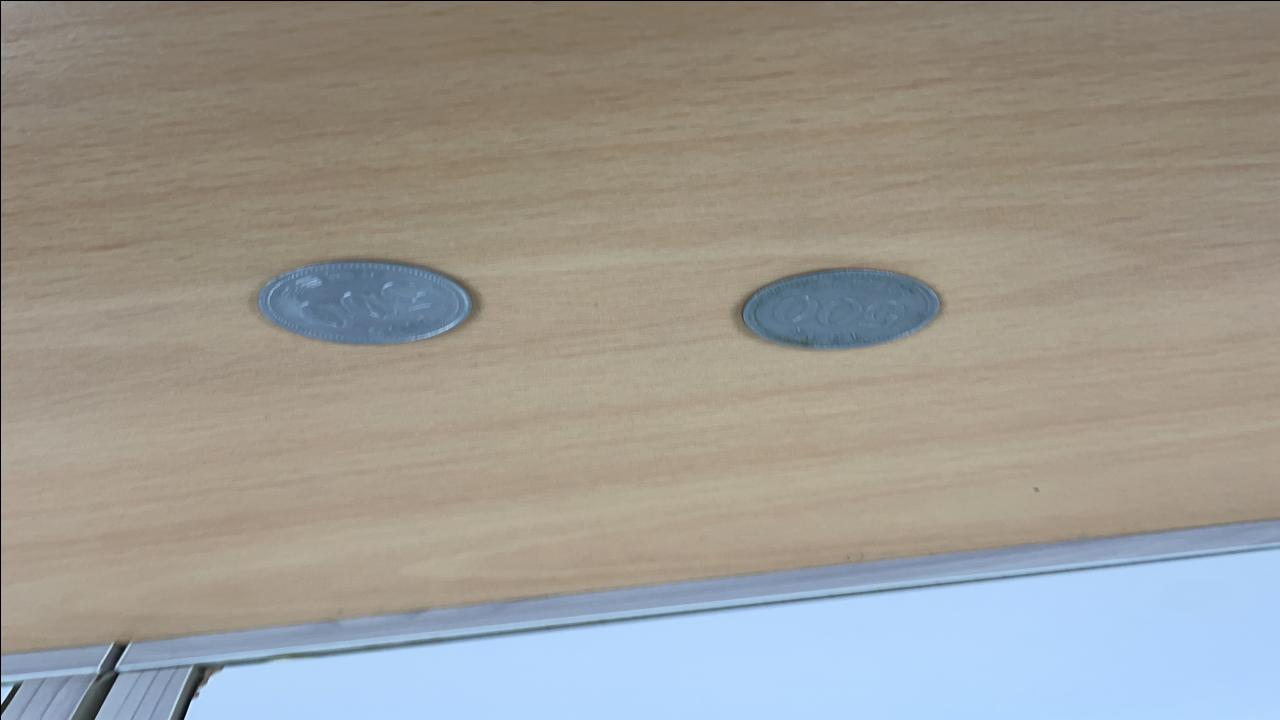coin: (254, 258, 476, 346), (734, 264, 948, 351)
